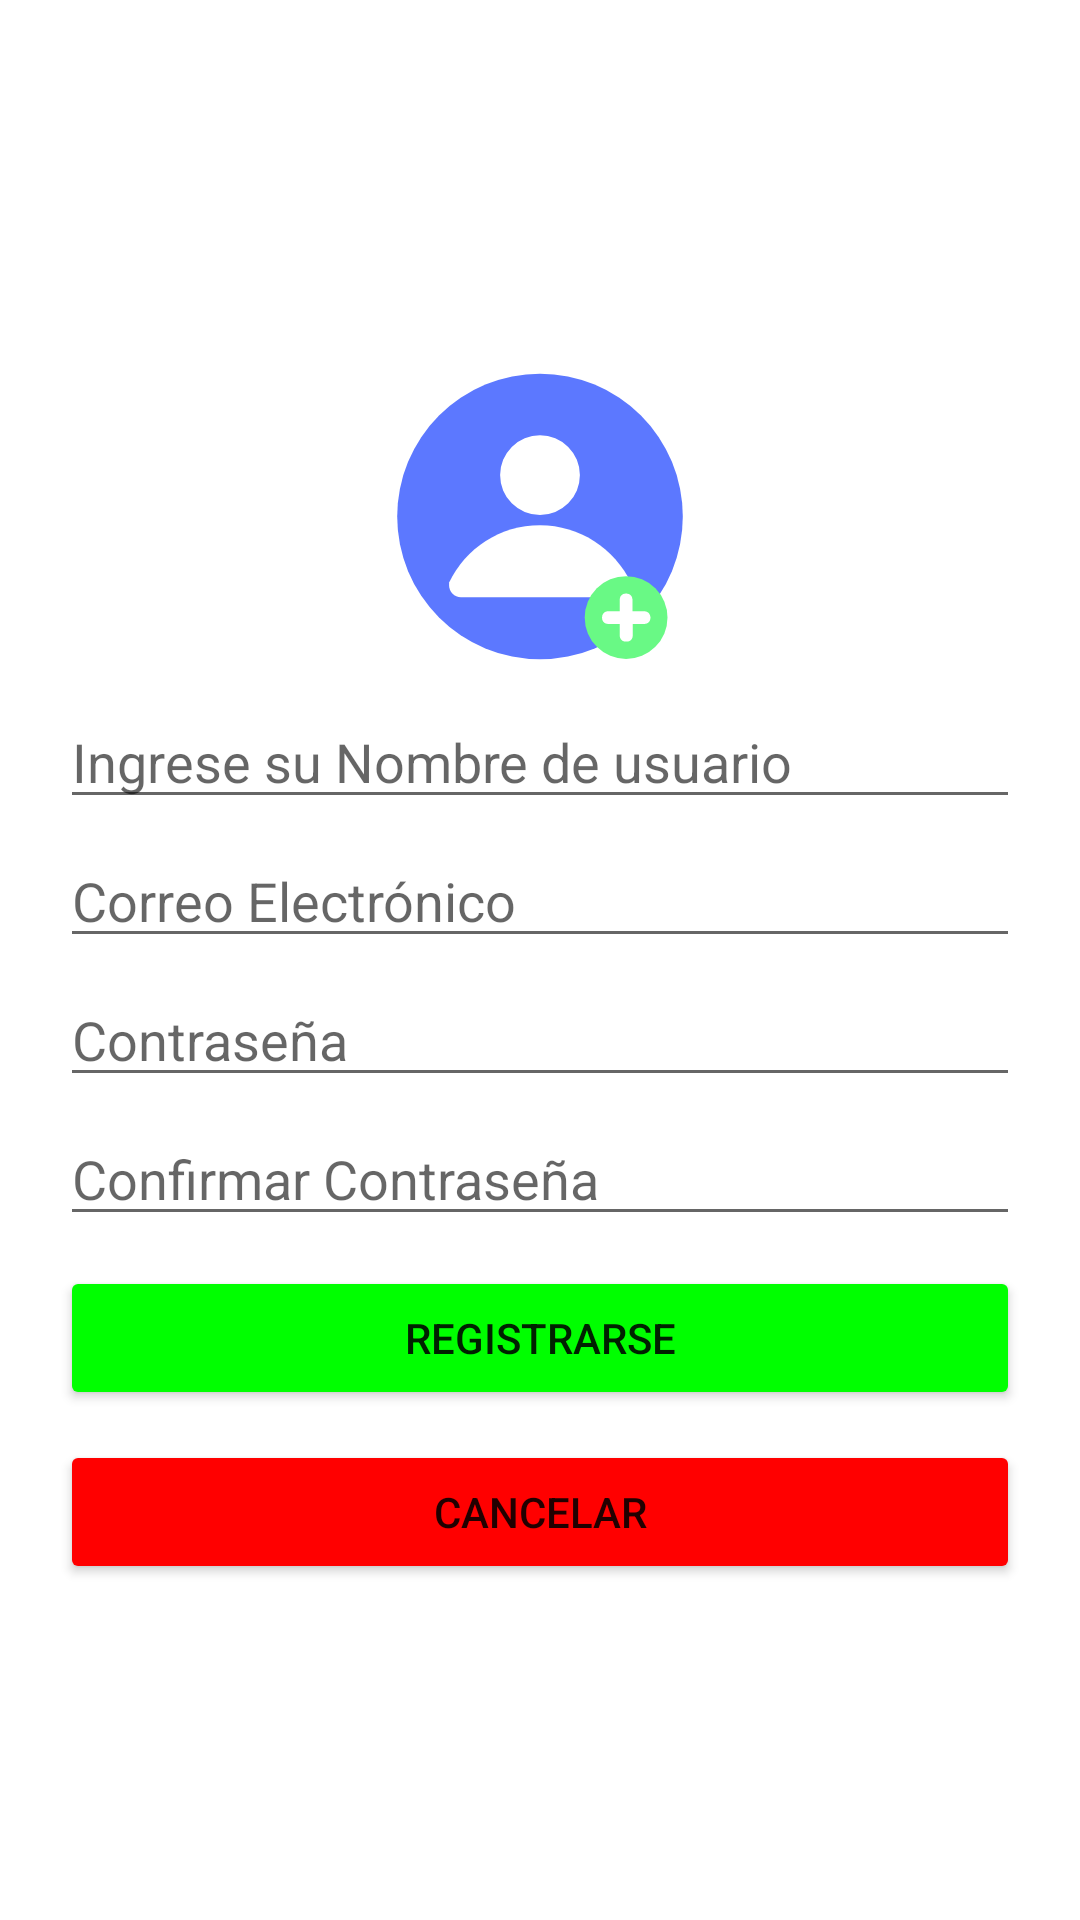

Named icons in this screenshot (1080px×1920px) and their centers, point (x, y):
adduser: point (540, 516)
